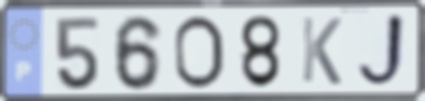5: (53, 14, 101, 92)
6: (112, 13, 165, 93)
8: (238, 13, 283, 89)
J: (354, 10, 410, 91)
K: (299, 15, 344, 88)
O: (172, 13, 228, 91)
